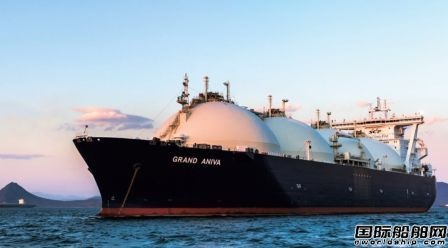Cargoship: (70, 77, 440, 220)
